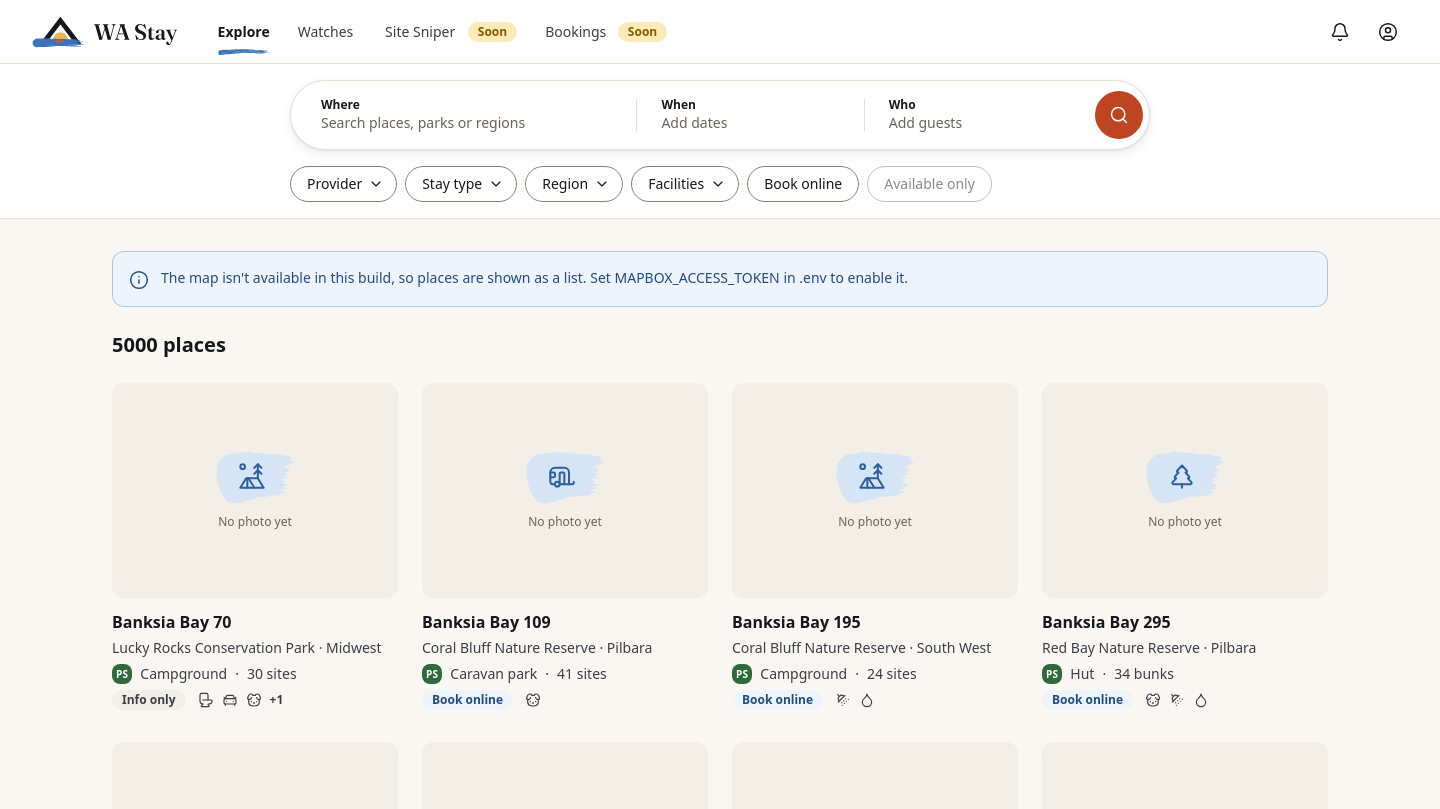
Scenario: Explore journey › keeps only 40 cards on the page with 5,000 places, and still searches as you type
Expected: the heading "5000 places" is shown, [112,331,226,358]
In the dropdown labelled "Where": (467, 123) [321,113,612,133], type "Gorge"
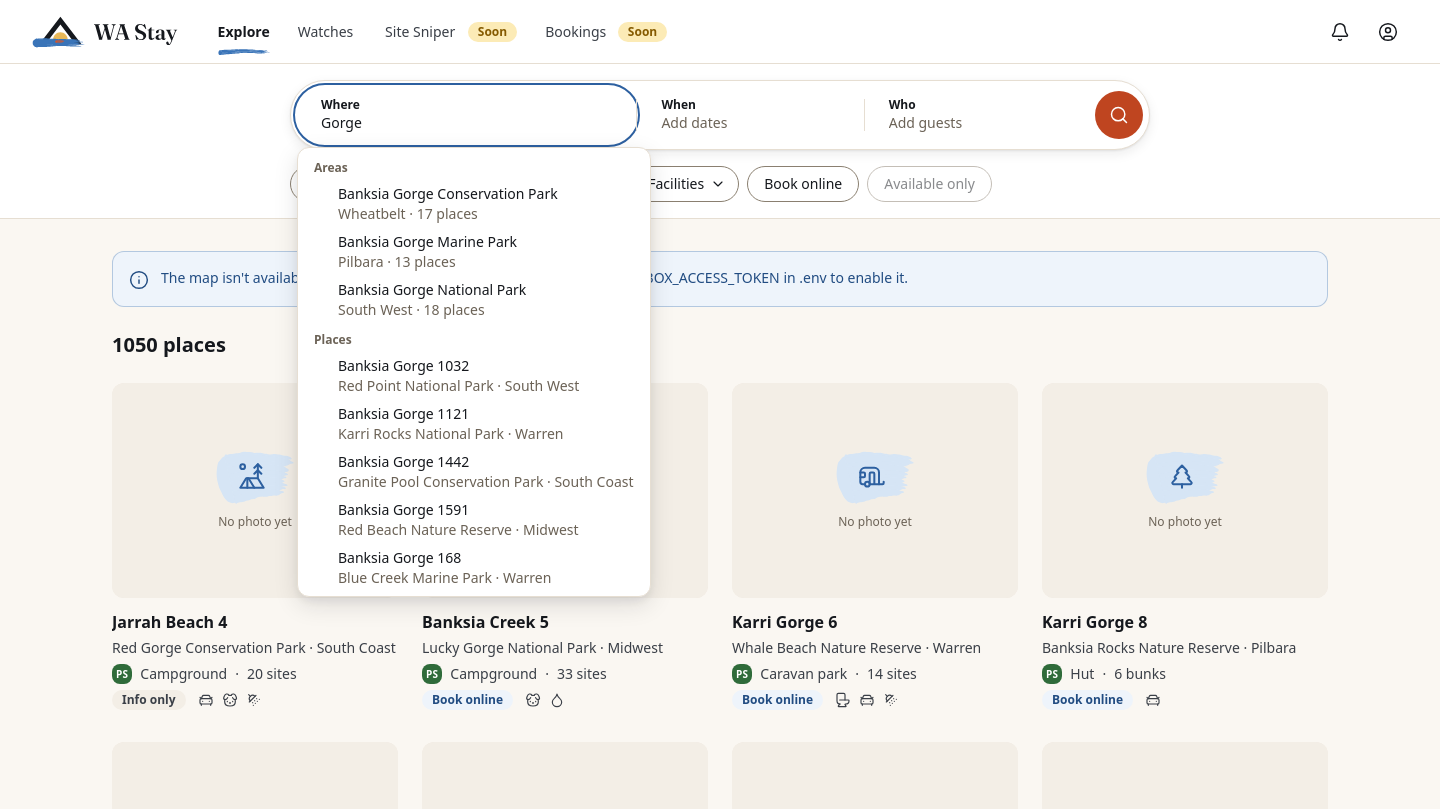
Now the heading no longer shows "5000", box [112,331,226,358]
